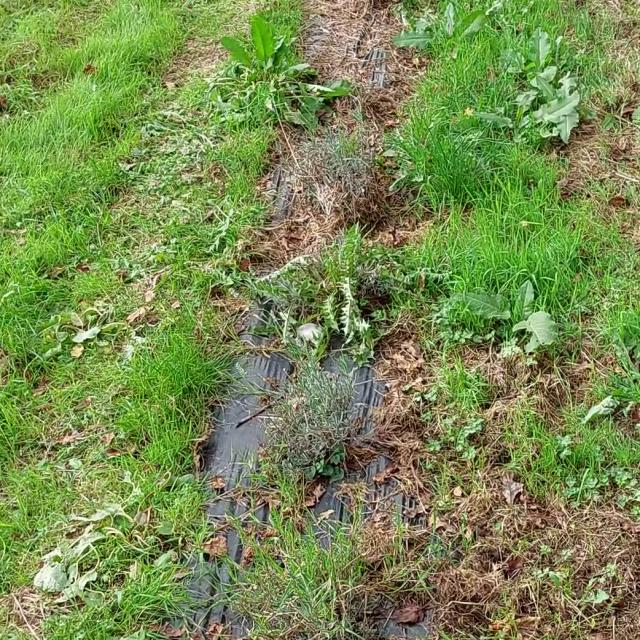organic waste: (22, 475, 186, 588), (204, 15, 346, 136), (440, 266, 580, 372), (497, 58, 630, 162), (46, 273, 163, 366), (484, 24, 584, 102), (385, 0, 511, 59), (583, 380, 634, 433)
